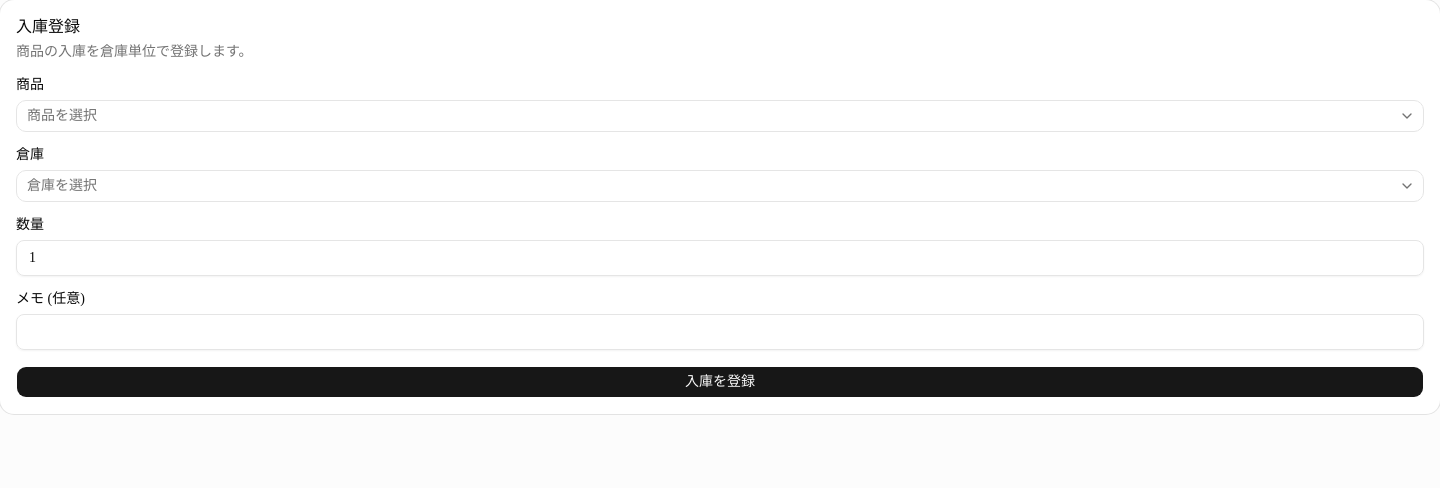
StockForm — 在庫操作フォーム › 入庫登録（type="in"） › 商品未選択で送信するとバリデーションエラーが表示される
Click the button "入庫を登録".
click(720, 382)  # box [16,366,1424,398]
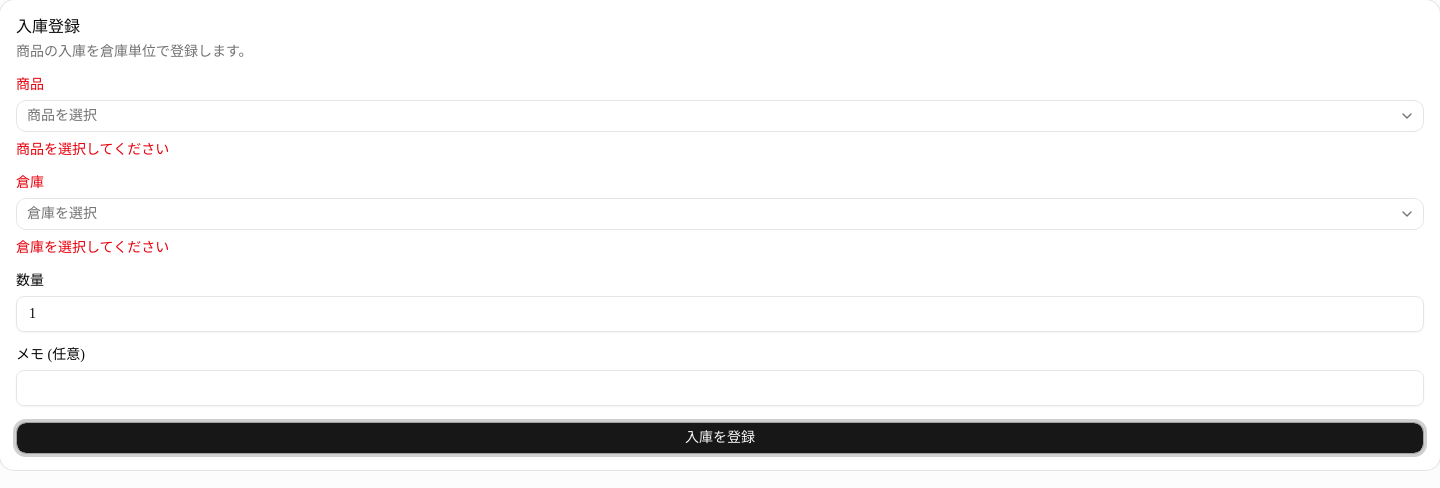
Result: the text "商品を選択してください" is shown at [16,142,169,157]
